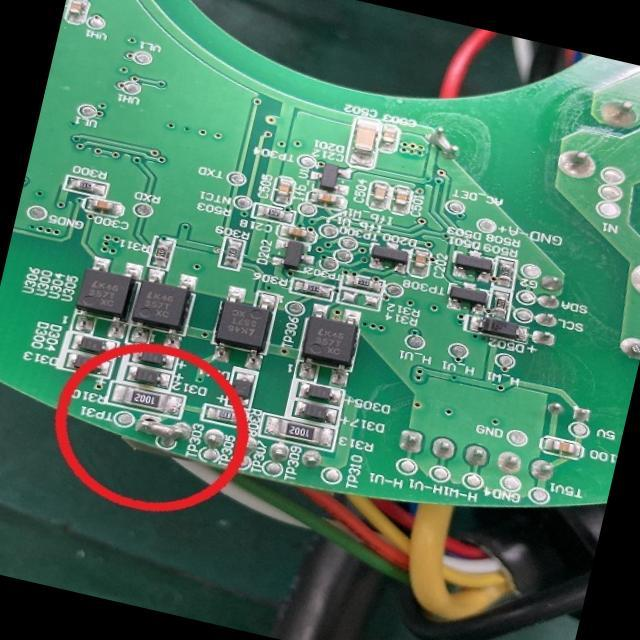Short_circuit: (135, 415, 190, 448)
